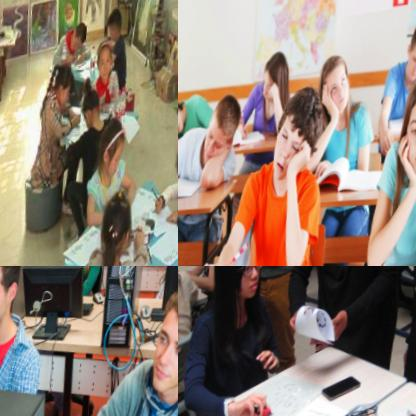head: (267, 89, 330, 187), (198, 94, 246, 177), (147, 287, 178, 402), (100, 191, 145, 266), (319, 55, 357, 124), (210, 266, 272, 304), (255, 56, 294, 116), (396, 70, 416, 187), (98, 115, 132, 178), (0, 266, 28, 338), (50, 61, 79, 114), (400, 15, 416, 91), (82, 85, 106, 129), (101, 7, 128, 46), (95, 41, 118, 85), (66, 20, 88, 58), (178, 94, 189, 151)
